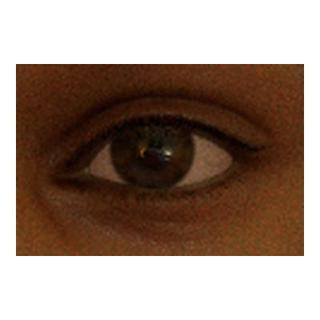pupil: (134, 132, 168, 166)
